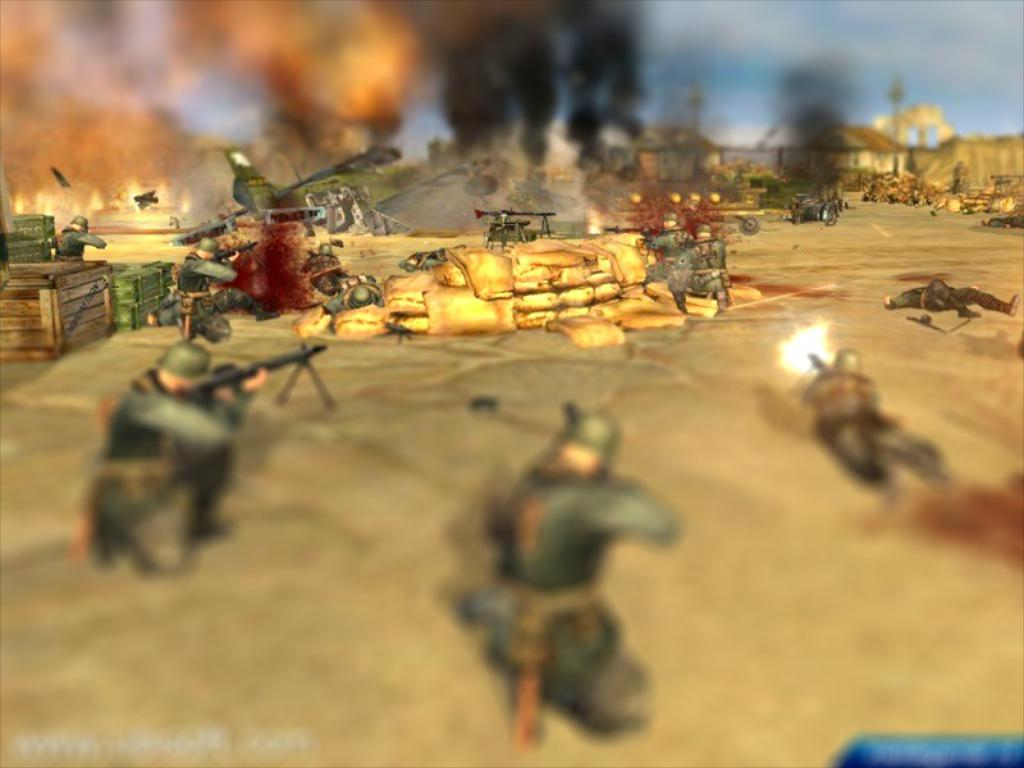Person: (461, 409, 682, 731), (69, 348, 254, 574), (790, 352, 942, 480), (171, 231, 279, 337), (674, 222, 729, 311), (884, 286, 1019, 317), (643, 213, 696, 291), (52, 216, 111, 261), (305, 243, 348, 289)
